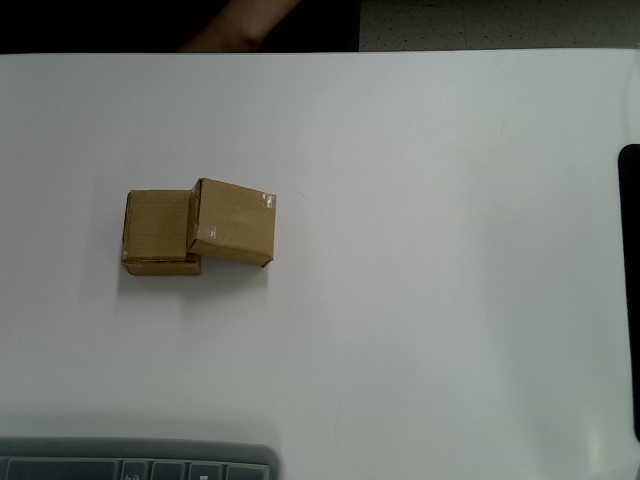normal: (186, 178, 277, 266), (120, 189, 202, 277)
